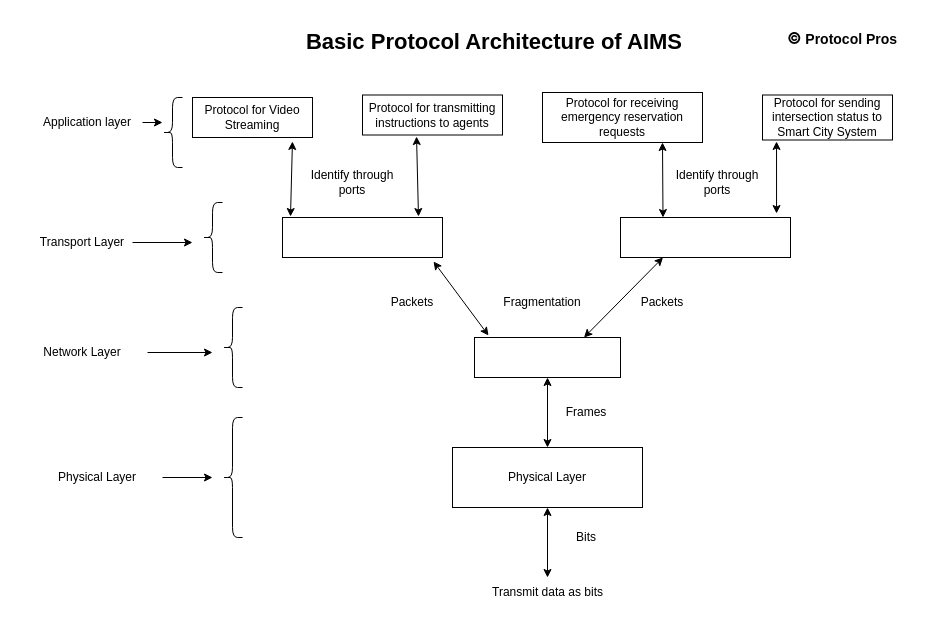
The diagram is 929 pixels wide and 624 high, and some of its shapes have lost their labels. The centre of each missing label's shape, as x and y in pixels:
"Connection-less Transport Layer Protocol" belongs at (x=705, y=237).
"Connection-oriented Transport Layer Protocol" belongs at (x=362, y=237).
"Network Layer Protocol" belongs at (x=547, y=357).
